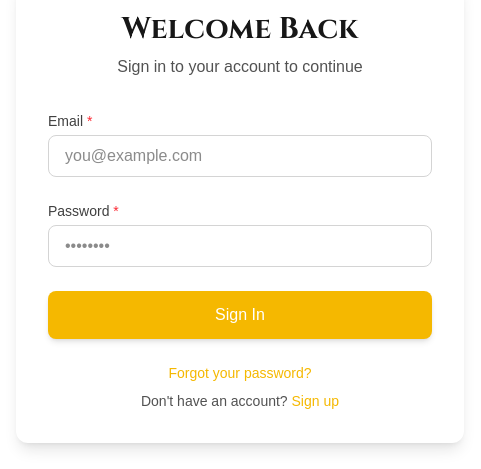
Test: LoginForm › shows loading state during submission
The width and height of the screenshot is (481, 469).
Check: the button is enabled, box [48,291,432,339]
In the field labelled "Email *": (240, 156) [48,135,432,177], type "test@example.com"
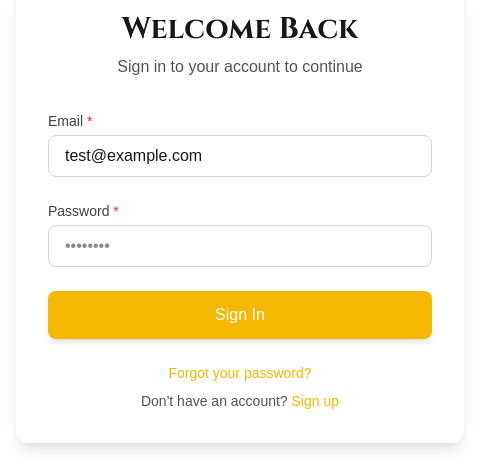
In the password field labelled "Password *": (240, 246) [48,225,432,267], type "password123"
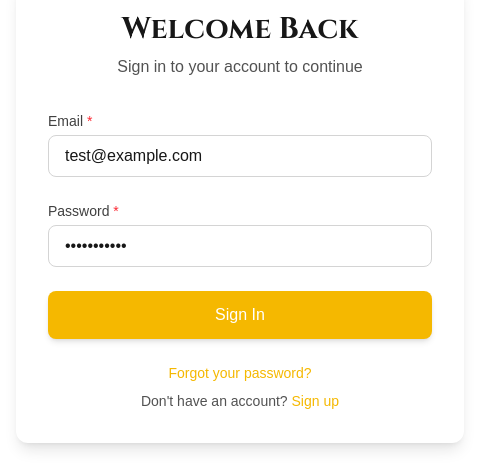
Click the button "Sign In": (240, 315) [48,291,432,339]
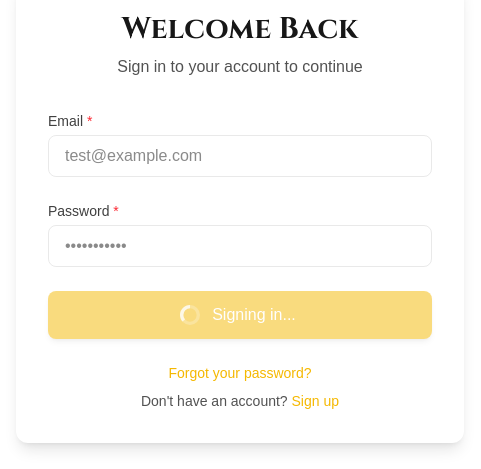
Check: the text "Signing in..." is shown, box [180,305,296,325]
